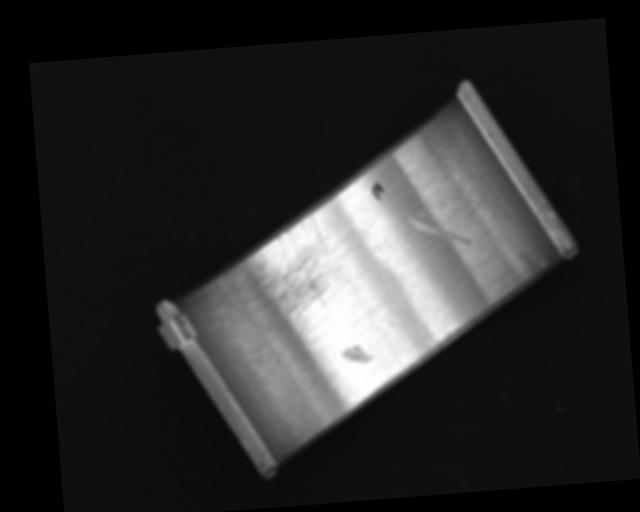blot: (370, 181, 384, 202)
bruise: (339, 343, 374, 365)
nick: (378, 155, 414, 245), (407, 209, 470, 249)
scratch: (219, 210, 346, 328)
